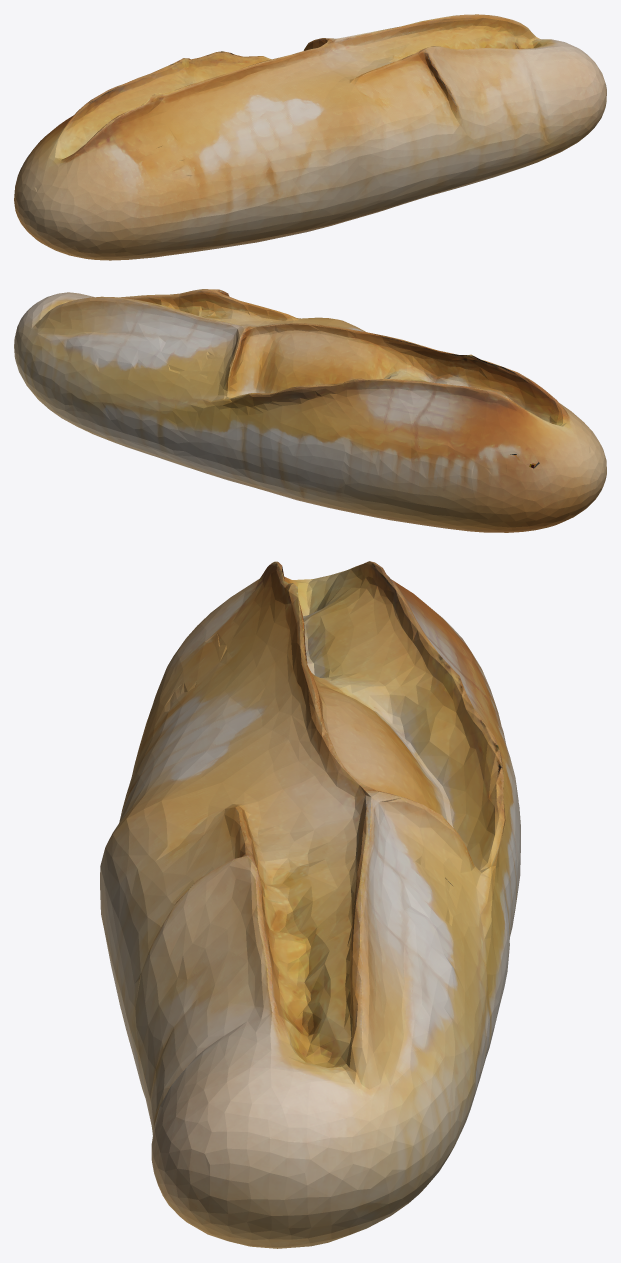
The model's file is banh_mi.glb.
The picture shows the model from 3 angles, top to bottom: view 1: azimuth 30°, elevation 25°; view 2: azimuth 150°, elevation 25°; view 3: azimuth 270°, elevation 25°; orthographic projection. The views are drawn at different scales.
Visible parts, largest first — view 1: world; view 2: world; view 3: world.
Boxes of the visible parts, box(x1,y1,x2,y2) form: world: box(14, 14, 606, 260); world: box(14, 289, 606, 532); world: box(100, 561, 520, 1248).
Size of the model in its own units: 0.999 by 0.2682 by 0.3233.
Materials: 1 (1 with a texture image).
